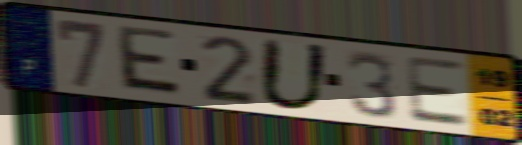2: (198, 34, 261, 107)
3: (344, 48, 399, 121)
7: (53, 15, 110, 91)
E: (402, 53, 472, 129), (117, 23, 185, 100)
U: (256, 35, 333, 113)
